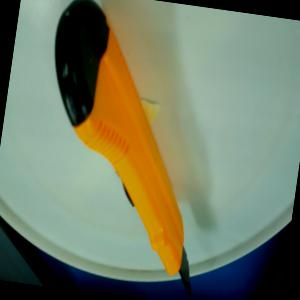estilete: (19, 0, 230, 298)
